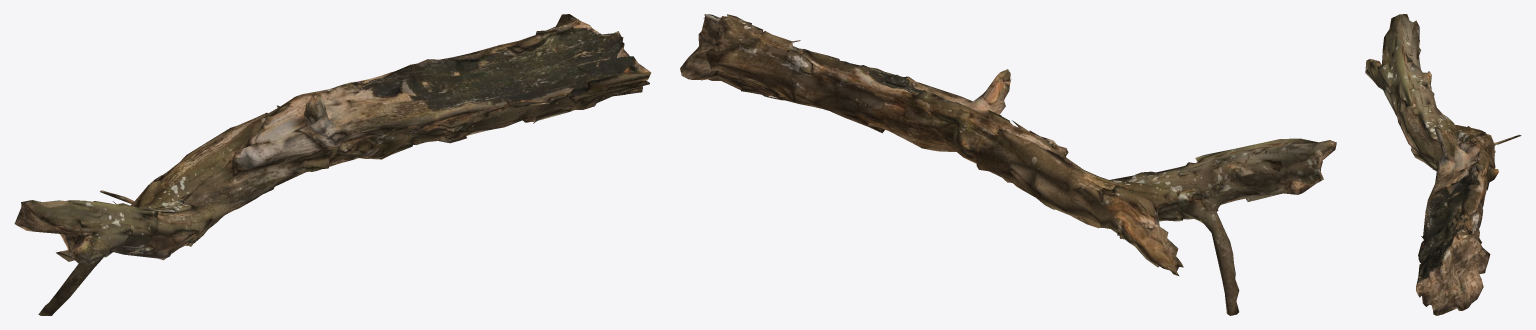
The model's file is dead_tree_trunk_02.glb.
3 views of the same model, side by side, from view 1: azimuth 30°, elevation 25°; view 2: azimuth 150°, elevation 25°; view 3: azimuth 270°, elevation 25° (orthographic). The views are drawn at different scales.
Visible parts, largest first — view 1: dead_tree_trunk_02; view 2: dead_tree_trunk_02; view 3: dead_tree_trunk_02.
Boxes of the visible parts, left/top/right/bottom form: dead_tree_trunk_02: left=14, top=14, right=651, bottom=315; dead_tree_trunk_02: left=680, top=14, right=1336, bottom=315; dead_tree_trunk_02: left=1365, top=14, right=1521, bottom=315.
Size of the model in its own units: 4.05 by 1.05 by 1.05.
1 material, 1 textured.
